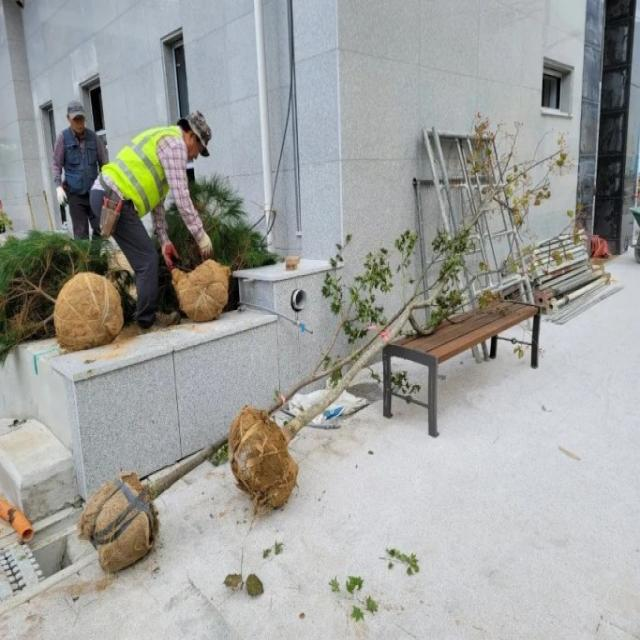plant: (229, 110, 577, 510), (78, 227, 475, 575), (150, 174, 281, 321), (0, 229, 124, 362)
